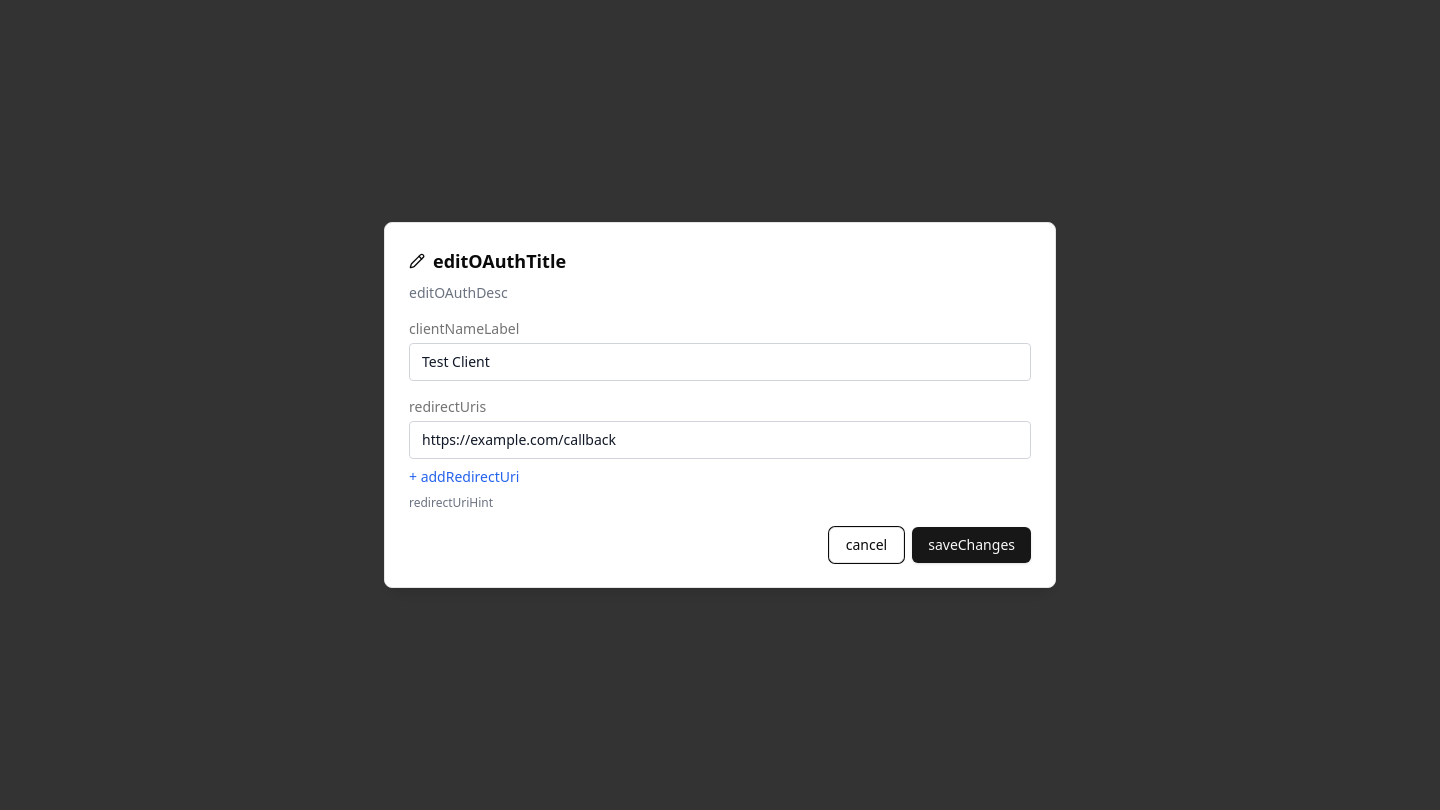
it: EditOAuthClientDialog › adds and removes redirect URI fields
The image size is (1440, 810).
Check: the number of fields with placeholder "redirectUriPlaceholder" is 1, box [409,421,1031,459]
# Add a URI
Click the button "+ addRedirectUri" at (464, 477), box [409,467,519,487]
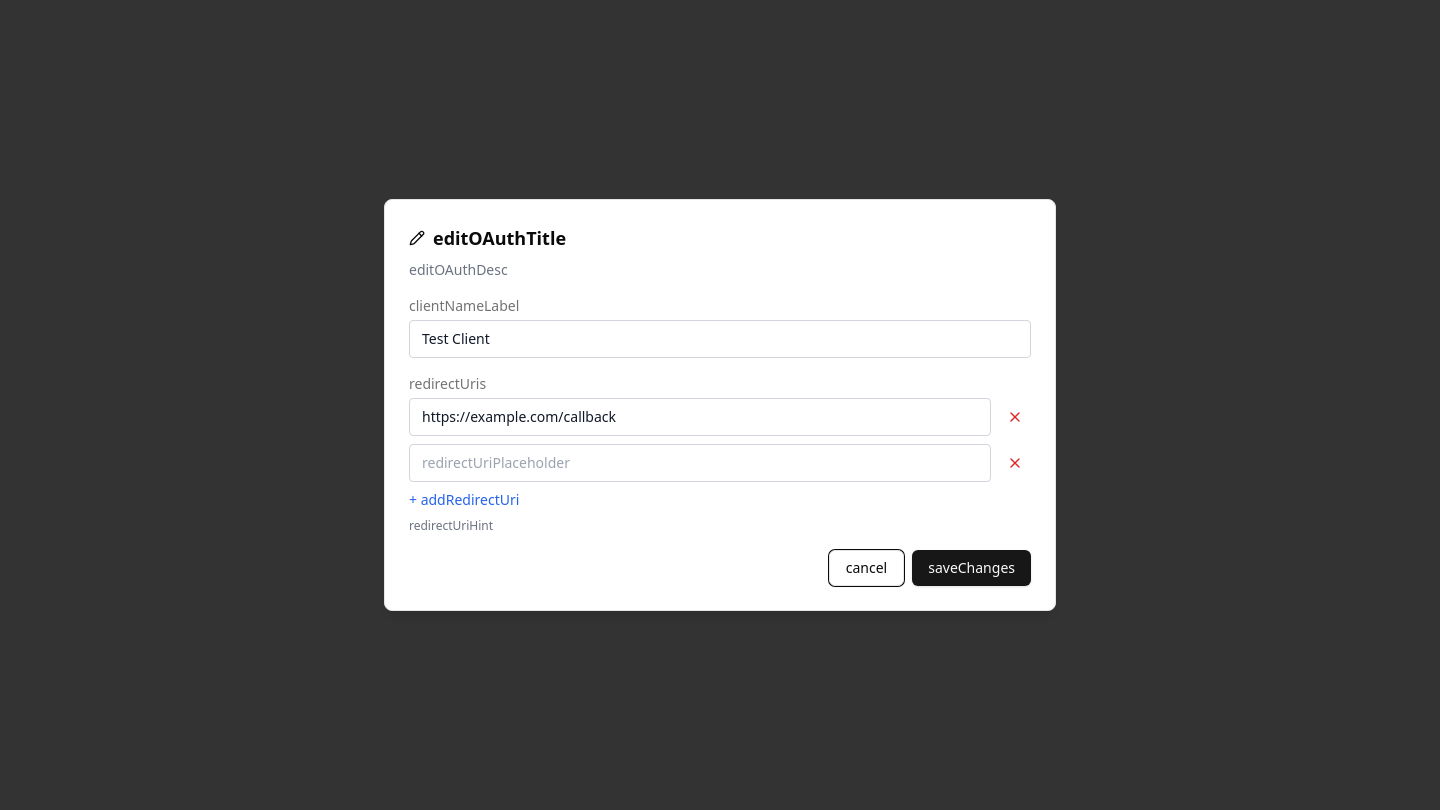
Check: the number of fields with placeholder "redirectUriPlaceholder" is 2, box [409,398,991,436]; [409,444,991,482]
Check: the number of buttons titled "removeUri" is 2
# Remove one URI
Click the 1st button titled "removeUri" at (1015, 417), box [999,401,1031,433]
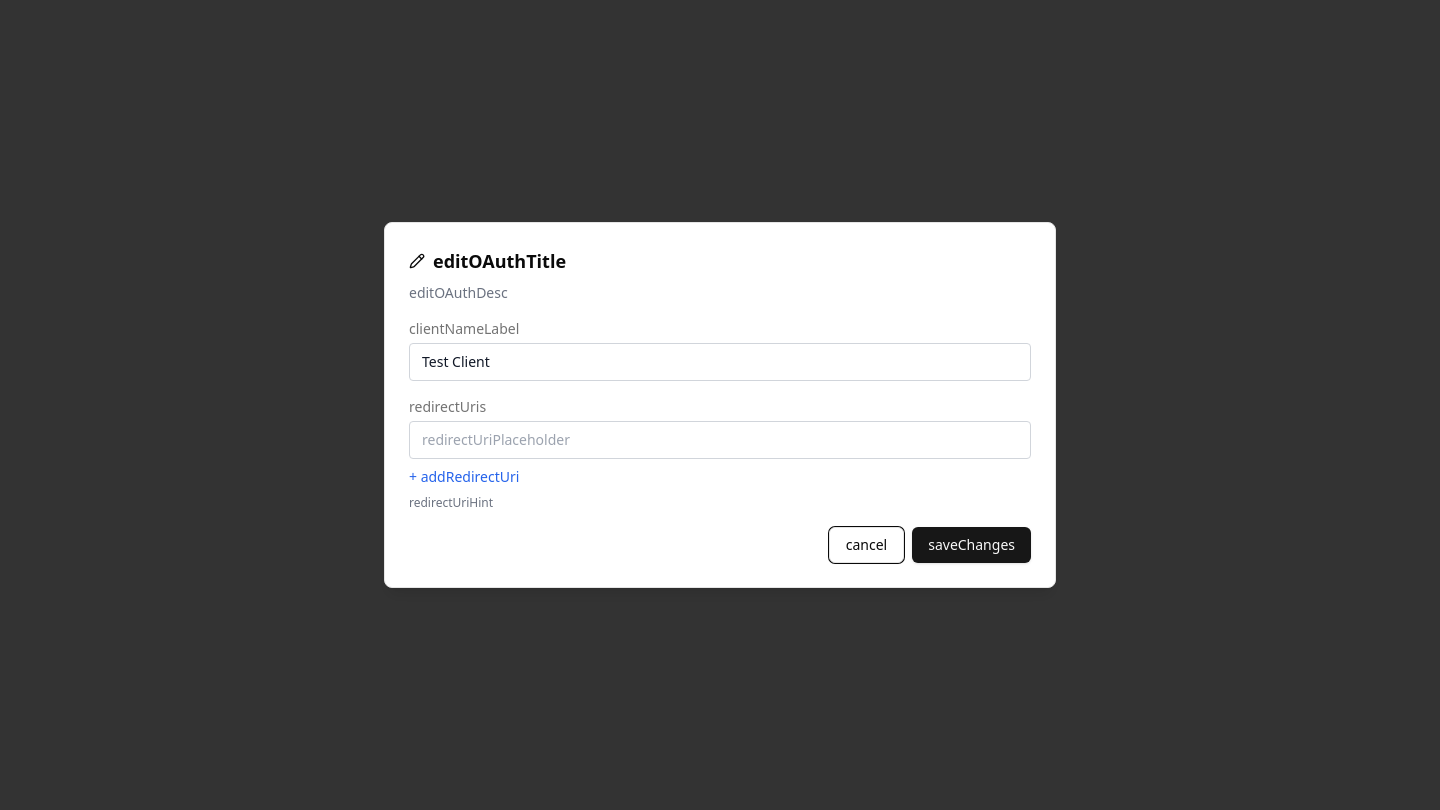
Check: the number of fields with placeholder "redirectUriPlaceholder" is 1, box [409,421,1031,459]
